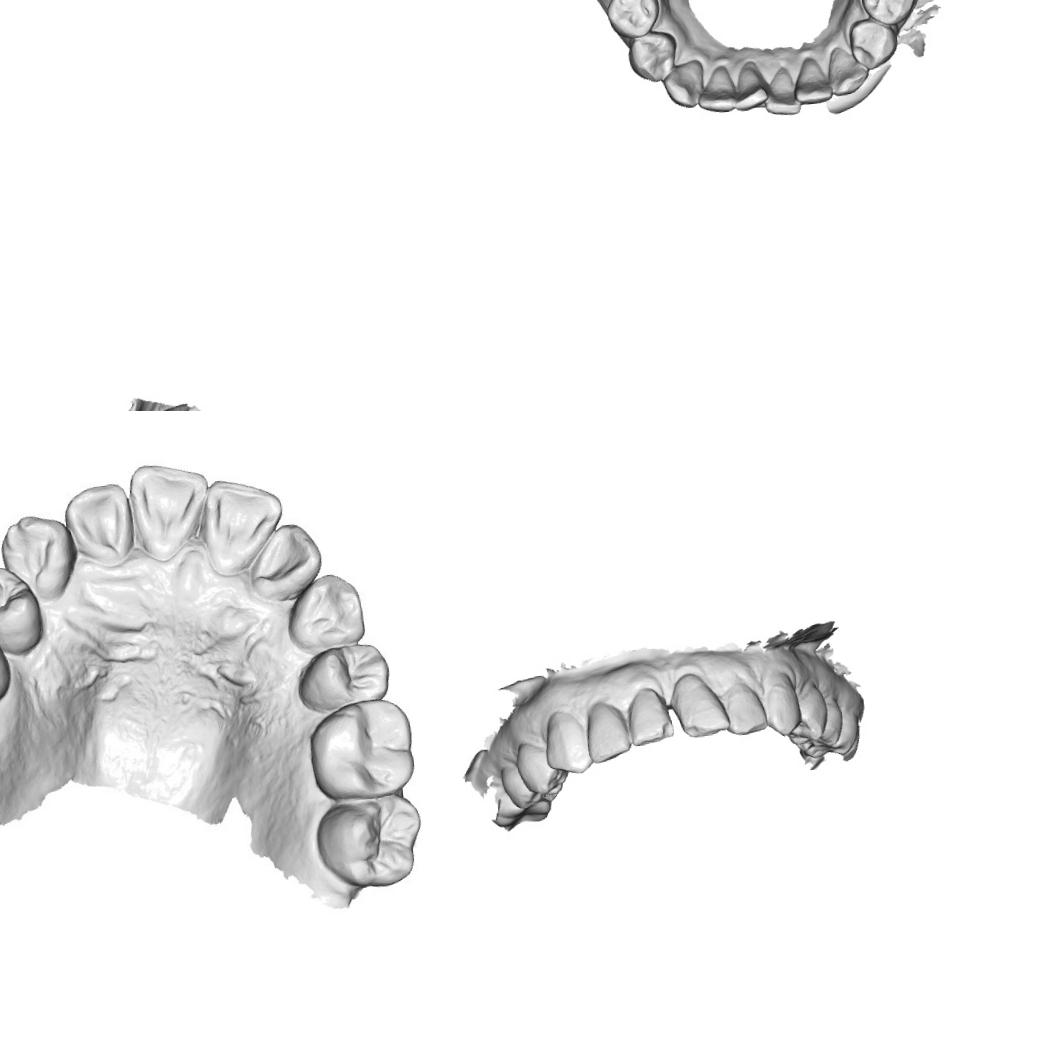canine: (288, 567, 372, 659), (0, 509, 78, 595), (541, 706, 598, 779), (657, 57, 712, 112), (759, 676, 804, 740), (823, 42, 873, 99)
incisor: (122, 458, 210, 563), (196, 473, 284, 578), (60, 482, 137, 568), (248, 524, 324, 602), (666, 667, 734, 742), (623, 682, 676, 748), (582, 700, 634, 766), (720, 674, 770, 739), (724, 57, 773, 112), (693, 61, 742, 116), (759, 64, 804, 119), (790, 51, 834, 107), (155, 401, 206, 411)
molar: (307, 694, 417, 807), (314, 786, 422, 899)
premolar: (299, 638, 392, 723), (0, 563, 47, 656), (845, 11, 902, 70), (624, 28, 682, 84), (512, 740, 568, 798), (786, 682, 832, 748), (602, 0, 665, 42), (808, 696, 845, 751), (857, 0, 918, 29), (501, 762, 533, 808)
